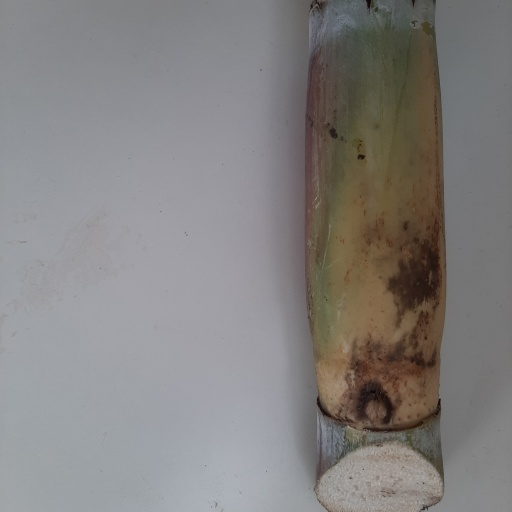Bud: (361, 388, 391, 429)
